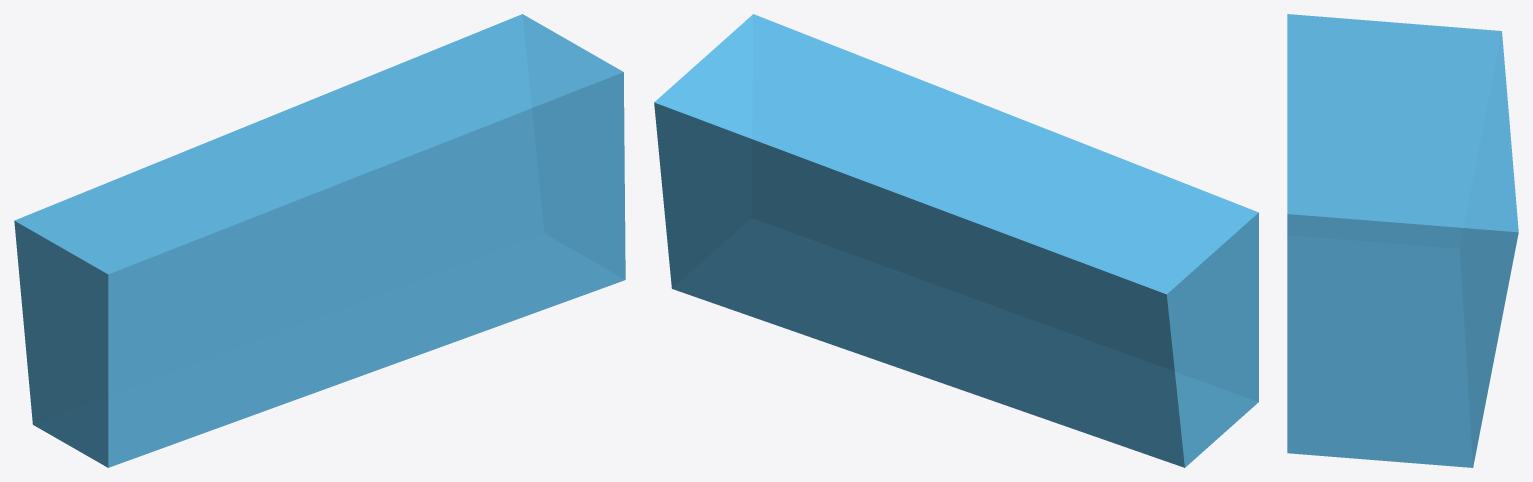
Rendered from Event_421115418_HErechit_72.fbx.
The picture shows the model from 3 angles, left to right: view 1: azimuth 30°, elevation 25°; view 2: azimuth 150°, elevation 25°; view 3: azimuth 270°, elevation 25°; orthographic projection. The views are drawn at different scales.
Parts seen in each view (by area): view 1: Model; view 2: Model; view 3: Model.
Boxes of the visible parts, left/top/right/bottom form: Model: left=14, top=14, right=625, bottom=467; Model: left=654, top=14, right=1258, bottom=467; Model: left=1287, top=14, right=1518, bottom=467.
Bounding box in the file's own units: 0.7975 × 0.4155 × 0.2704.
